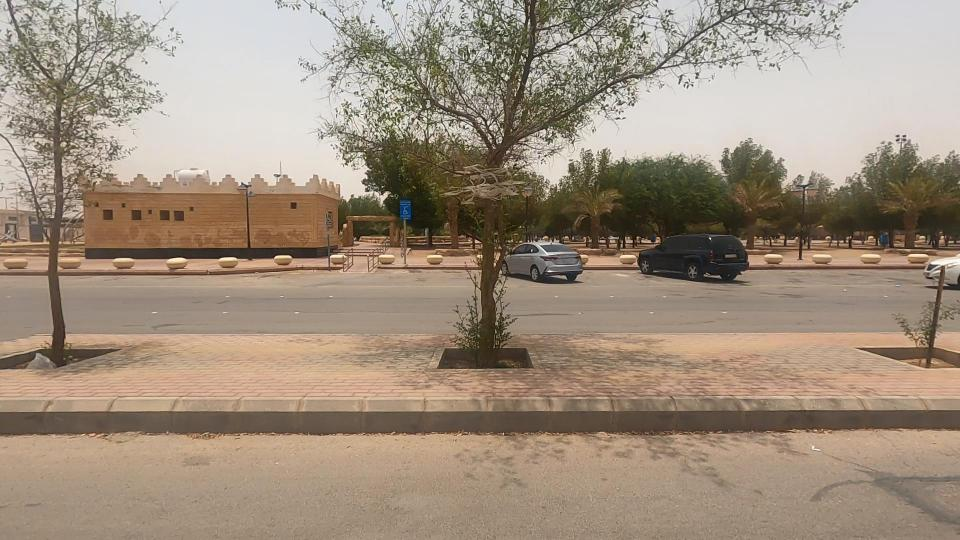GARBAGE: (5, 332, 77, 391)
